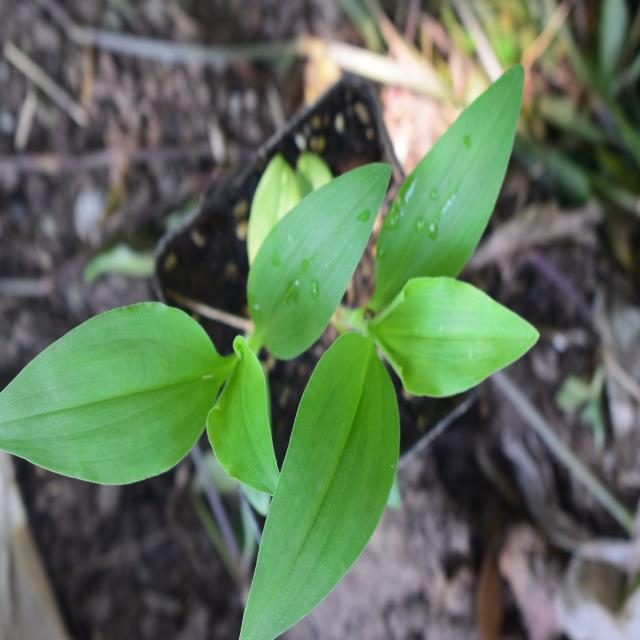Common Dayflower: (238, 90, 563, 618), (11, 247, 242, 504)
